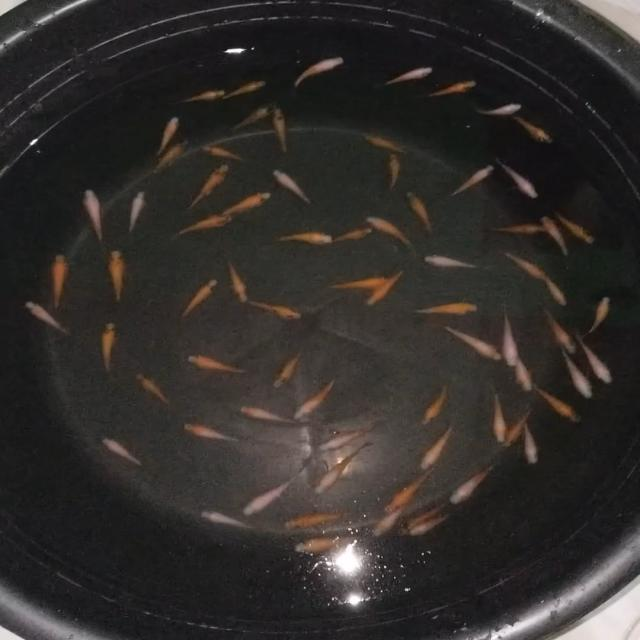nila: (236, 465, 312, 518), (316, 440, 378, 494), (383, 462, 440, 514), (360, 210, 422, 256), (441, 320, 502, 362), (316, 416, 380, 454), (552, 199, 600, 249), (289, 54, 349, 93), (448, 461, 500, 506), (186, 160, 229, 213), (558, 339, 594, 401), (398, 494, 455, 533), (24, 298, 76, 340), (416, 420, 458, 472), (494, 158, 544, 201), (502, 109, 560, 146), (131, 368, 179, 412), (296, 374, 340, 422), (184, 350, 253, 380), (534, 212, 573, 265), (494, 243, 548, 281), (541, 385, 588, 428), (178, 276, 220, 324), (360, 265, 407, 307), (195, 508, 264, 536), (268, 166, 316, 206), (538, 306, 578, 354), (268, 344, 308, 392), (420, 248, 488, 276), (170, 212, 232, 242), (98, 430, 144, 470), (226, 100, 274, 138), (80, 184, 108, 249), (443, 162, 496, 196), (580, 329, 614, 382), (240, 296, 304, 324), (416, 379, 452, 428), (317, 272, 397, 294), (146, 139, 192, 177), (291, 534, 370, 556), (220, 186, 274, 218), (180, 420, 247, 445), (404, 186, 436, 238), (236, 401, 302, 426), (276, 510, 358, 530), (268, 227, 336, 251), (530, 268, 572, 306), (497, 304, 522, 366), (478, 216, 548, 238), (500, 405, 534, 450), (268, 100, 294, 157), (358, 129, 414, 155), (217, 78, 270, 105), (404, 300, 483, 318), (324, 223, 378, 249), (224, 256, 251, 306), (403, 512, 454, 538), (152, 114, 182, 158), (50, 249, 69, 315), (197, 141, 253, 163), (380, 64, 438, 85), (366, 507, 408, 536), (490, 390, 512, 444), (173, 85, 232, 105), (512, 349, 536, 397), (126, 187, 148, 239), (100, 318, 119, 378), (107, 245, 125, 308), (428, 76, 479, 98), (470, 99, 522, 118), (590, 292, 613, 332), (385, 148, 403, 194), (526, 426, 544, 469)
